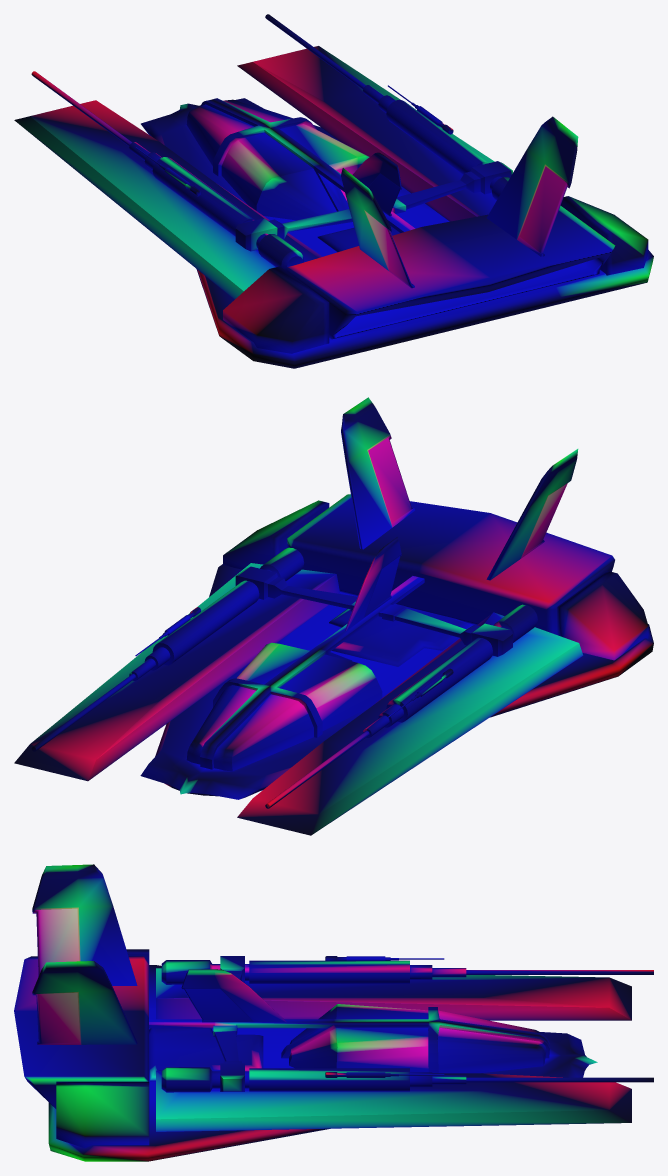
The model's file is ad_interceptor.fbx.
The picture shows the model from 3 angles, top to bottom: view 1: azimuth 30°, elevation 25°; view 2: azimuth 150°, elevation 25°; view 3: azimuth 270°, elevation 25°; orthographic projection. The views are drawn at different scales.
Visible parts, largest first — view 1: ad_interceptor; view 2: ad_interceptor; view 3: ad_interceptor.
Boxes of the visible parts, left/top/right/bottom form: ad_interceptor: left=14, top=14, right=653, bottom=368; ad_interceptor: left=14, top=397, right=653, bottom=835; ad_interceptor: left=14, top=864, right=653, bottom=1161.
Bounding box in the file's own units: 644 × 281 × 947.
